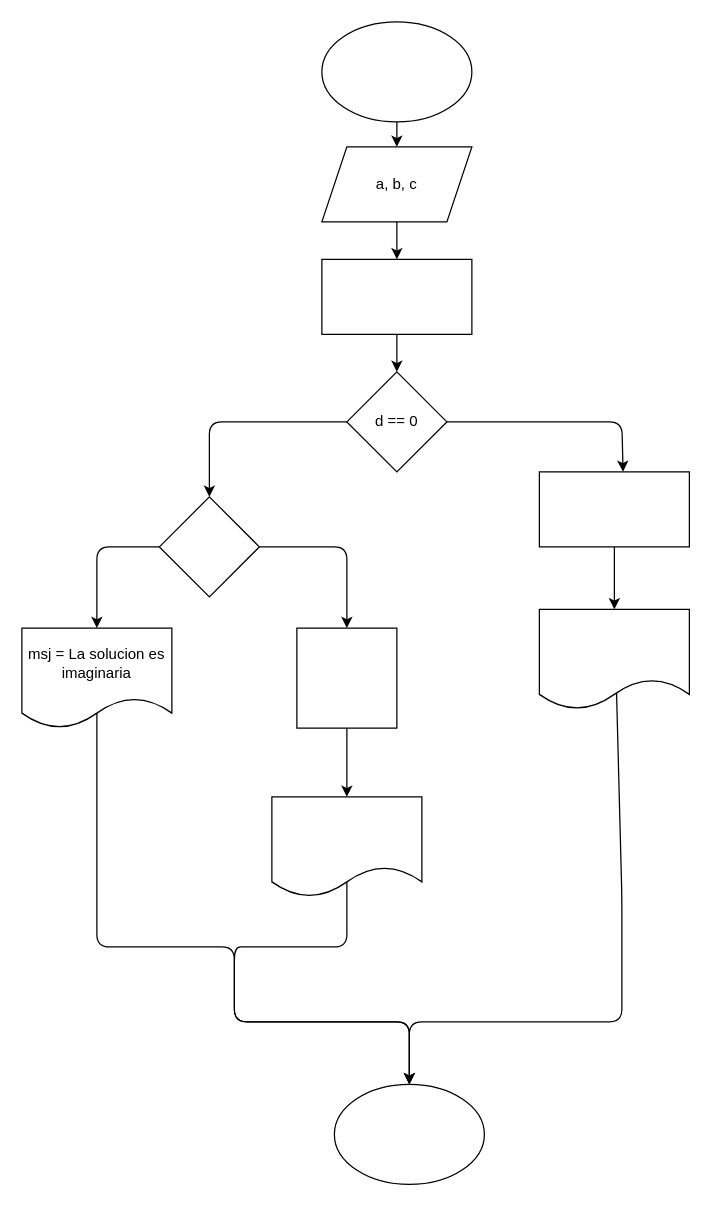
Some shapes in this 711 by 1206 pixel diagram are drawn without their labels. Each missing label, with the centre of its shape:
"d =b**2-4ac" goes at (x=396, y=296).
"inicio" goes at (x=396, y=71).
